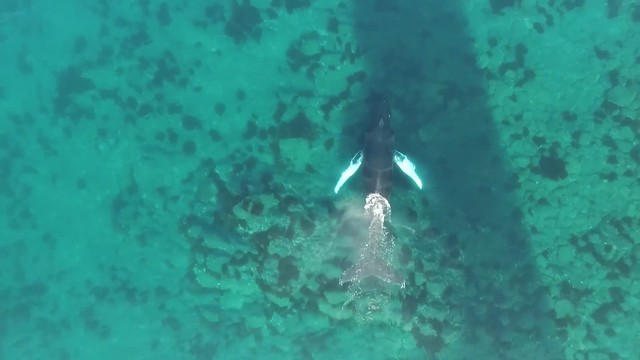whale: (327, 93, 431, 296)
